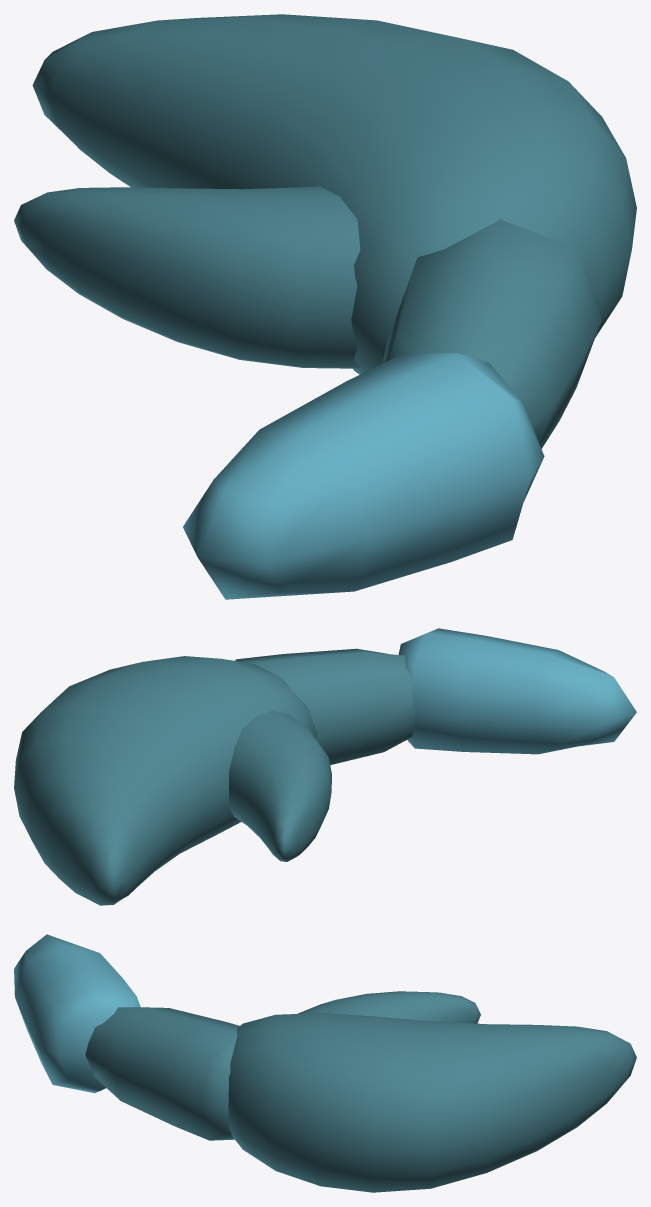
The model's file is Lobster_4_Claw_1.fbx.
The picture shows the model from 3 angles, top to bottom: view 1: azimuth 30°, elevation 25°; view 2: azimuth 150°, elevation 25°; view 3: azimuth 270°, elevation 25°; orthographic projection. The views are drawn at different scales.
Visible parts, largest first — view 1: Lobster_4_Claw_1; view 2: Lobster_4_Claw_1; view 3: Lobster_4_Claw_1.
Boxes of the visible parts, x1,y1,x2,y2 form: Lobster_4_Claw_1: (14,14,636,599); Lobster_4_Claw_1: (14,628,636,905); Lobster_4_Claw_1: (14,934,636,1192).
Size of the model in its own units: 17.33 by 6.11 by 23.35.
